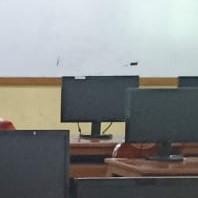monitor: (124, 87, 198, 159), (0, 129, 70, 196), (60, 75, 140, 123)
